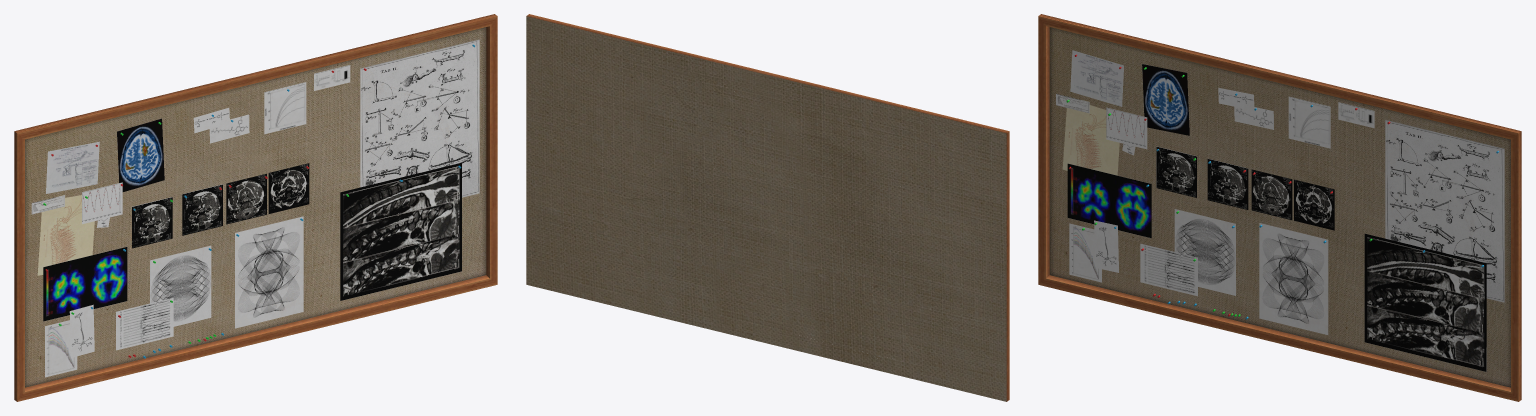
File: bulletin_board_large.dae
3 renders of one model, left to right at view 1: azimuth 30°, elevation 25°; view 2: azimuth 150°, elevation 25°; view 3: azimuth 330°, elevation 25°, orthographic.
Visible parts, largest first — view 1: polySurface154, polySurface183; view 2: polySurface183; view 3: polySurface154, polySurface183.
Part boxes in pixels (x1,y1,x2,y2): polySurface154: (31,39,479,377); polySurface183: (14,14,497,401); polySurface183: (526,14,1009,401); polySurface154: (1056,50,1504,371); polySurface183: (1038,14,1521,401).
Size of the model in its own units: 238 by 127 by 3.23.
